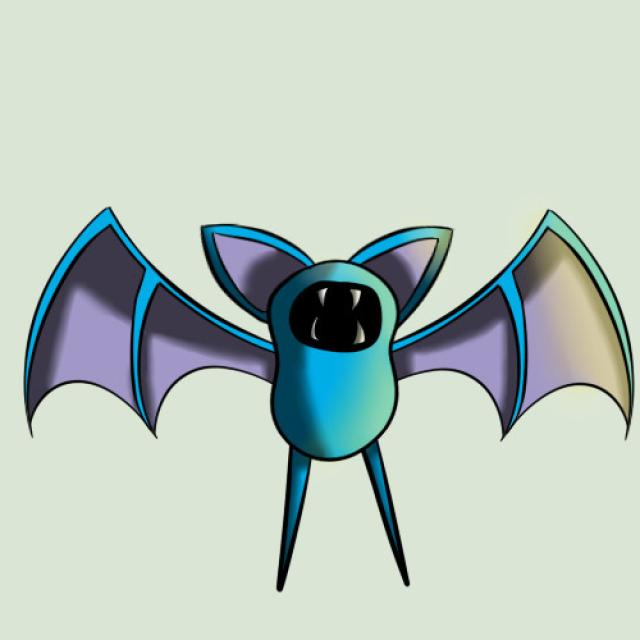Zubat: (129, 215, 543, 551)
